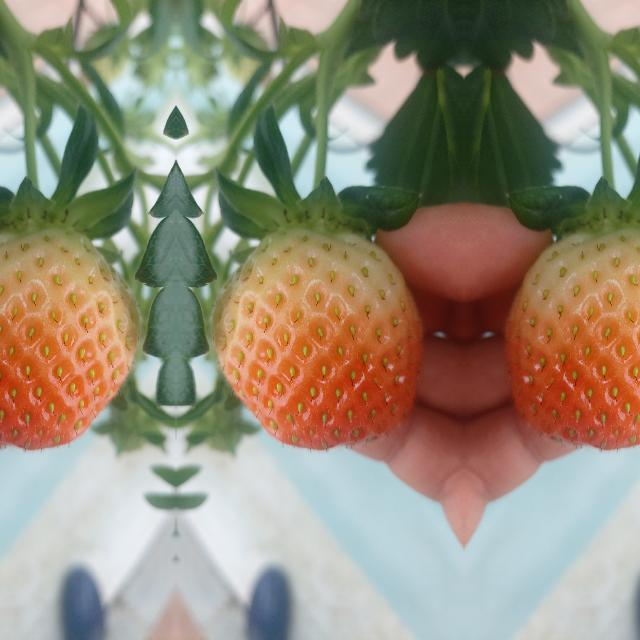Health_75: (210, 228, 422, 450), (0, 228, 139, 449), (504, 228, 640, 449)
